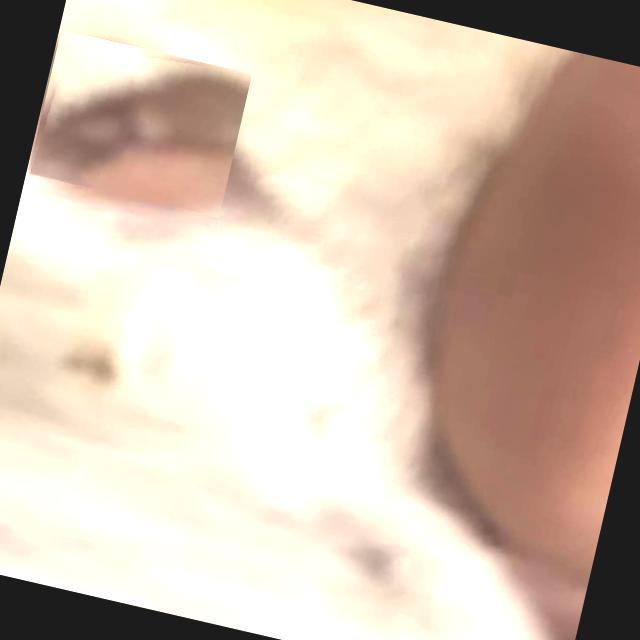fem: (29, 39, 252, 215)
